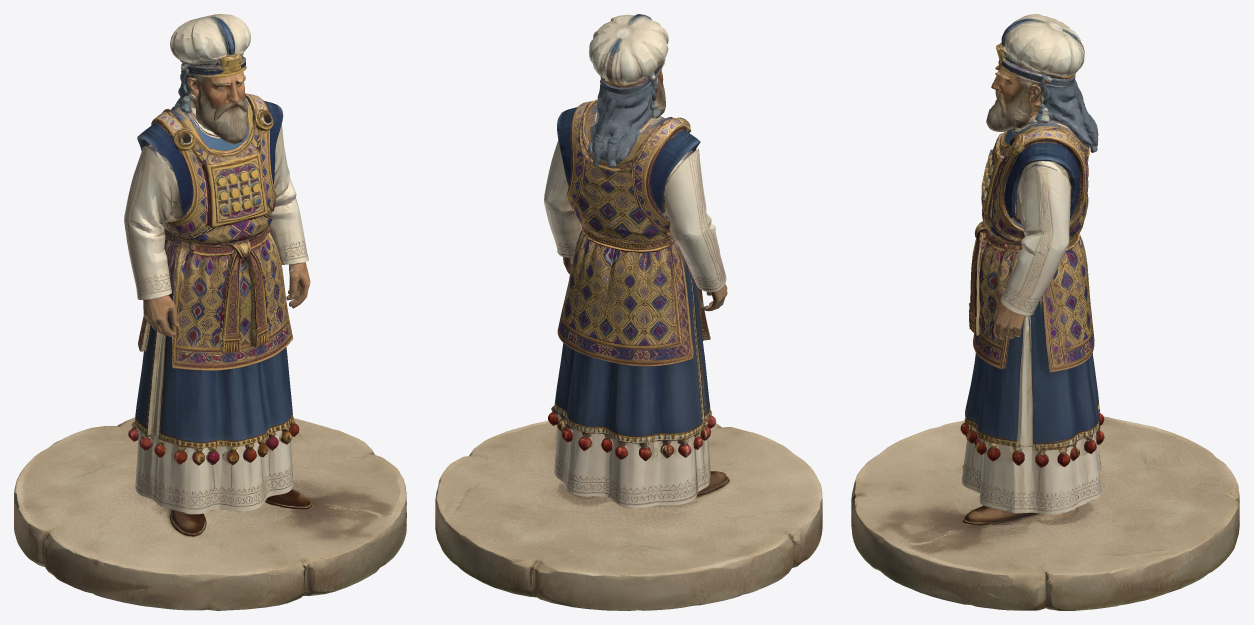
File: priest.glb
The picture shows the model from 3 angles, left to right: view 1: azimuth 30°, elevation 25°; view 2: azimuth 150°, elevation 25°; view 3: azimuth 270°, elevation 25°; orthographic projection.
Size of the model in its own units: 1.31 by 1.9 by 1.31.
1 material, 1 textured.
